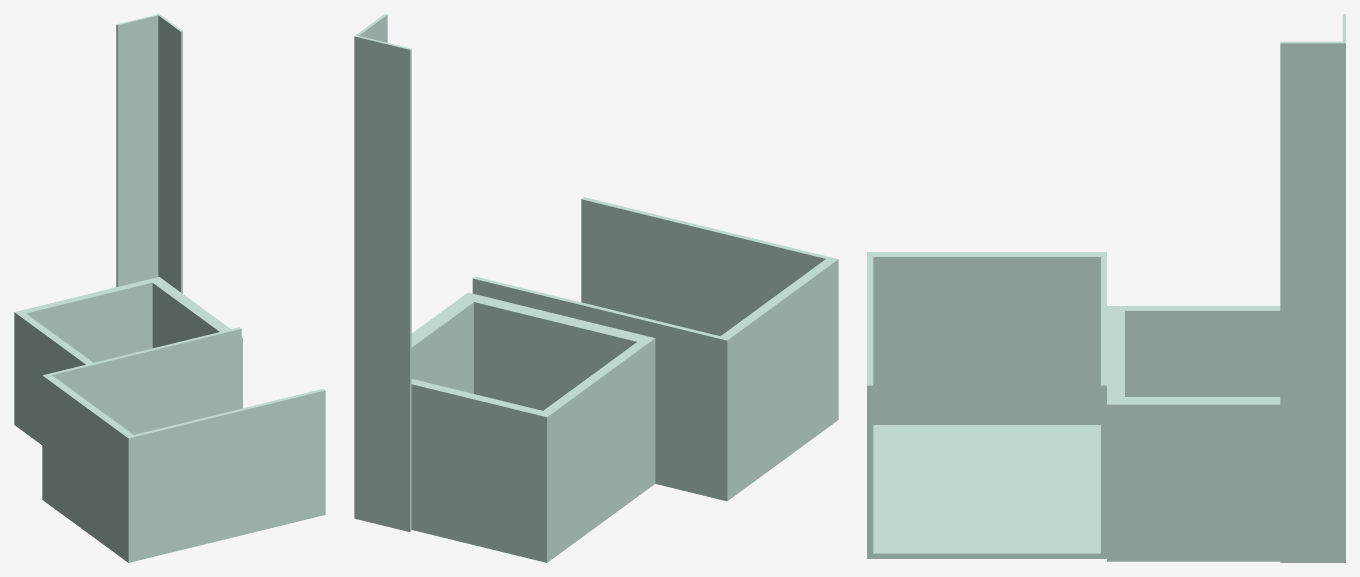
Rendered from orig.gltf.
The picture shows the model from 3 angles, left to right: view 1: azimuth 30°, elevation 25°; view 2: azimuth 150°, elevation 25°; view 3: azimuth 270°, elevation 25°; orthographic projection. The views are drawn at different scales.
Visible parts, largest first — view 1: Renderer Node; view 2: Renderer Node; view 3: Renderer Node.
Part boxes in pixels (<box>): Renderer Node: <box>14,14,325,562</box>; Renderer Node: <box>354,14,838,562</box>; Renderer Node: <box>867,14,1345,562</box>.
Bounding box in the file's own units: 0.4264 × 0.75 × 0.6263.
